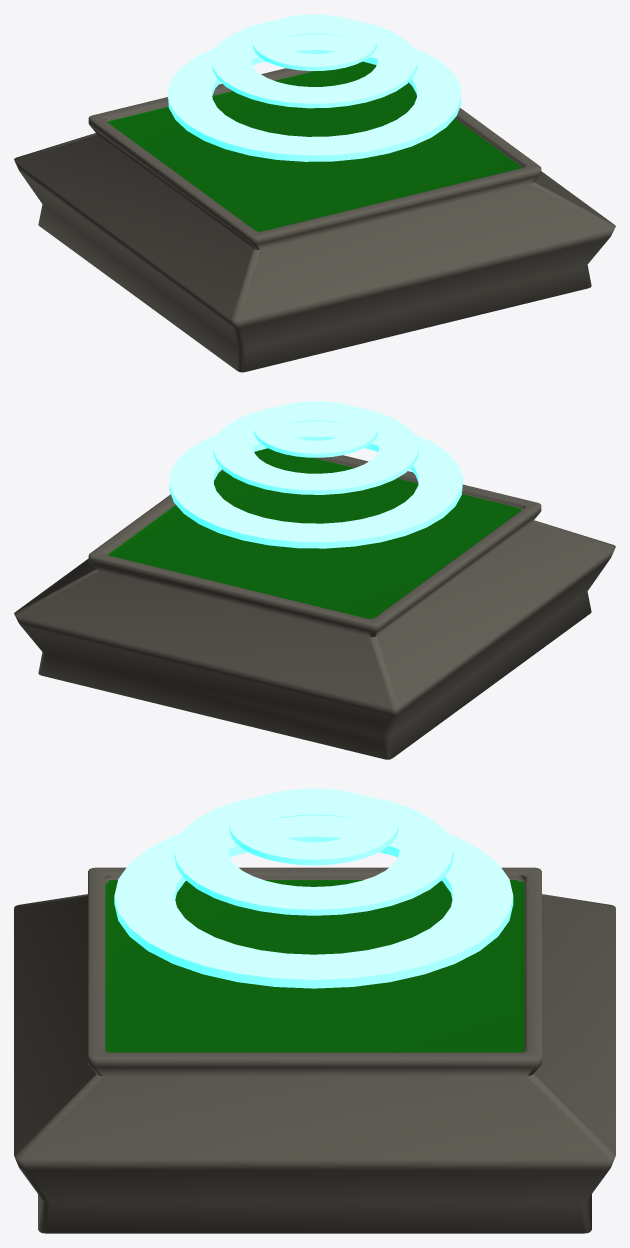
File: lift.glb
3 renders of one model, top to bottom at view 1: azimuth 30°, elevation 25°; view 2: azimuth 150°, elevation 25°; view 3: azimuth 270°, elevation 25°, orthographic. The views are drawn at different scales.
Parts seen in each view (by area): view 1: launchpad, launch-circle-1, launch-circle-2, launch-circle-3; view 2: launchpad, launch-circle-1, launch-circle-2, launch-circle-3; view 3: launchpad, launch-circle-1, launch-circle-2, launch-circle-3.
Boxes of the visible parts, box(x1,y1,x2,y2) form: launchpad: box(14, 61, 615, 372); launch-circle-1: box(168, 34, 461, 161); launch-circle-2: box(212, 20, 417, 108); launch-circle-3: box(252, 14, 376, 70); launchpad: box(14, 448, 615, 759); launch-circle-1: box(169, 421, 462, 548); launch-circle-2: box(213, 407, 418, 494); launch-circle-3: box(254, 401, 378, 457); launchpad: box(14, 867, 615, 1233); launch-circle-1: box(114, 815, 513, 988); launch-circle-2: box(174, 796, 453, 915); launch-circle-3: box(229, 788, 398, 865).
Bounding box in the file's own units: 2.17 × 1.17 × 2.17.
